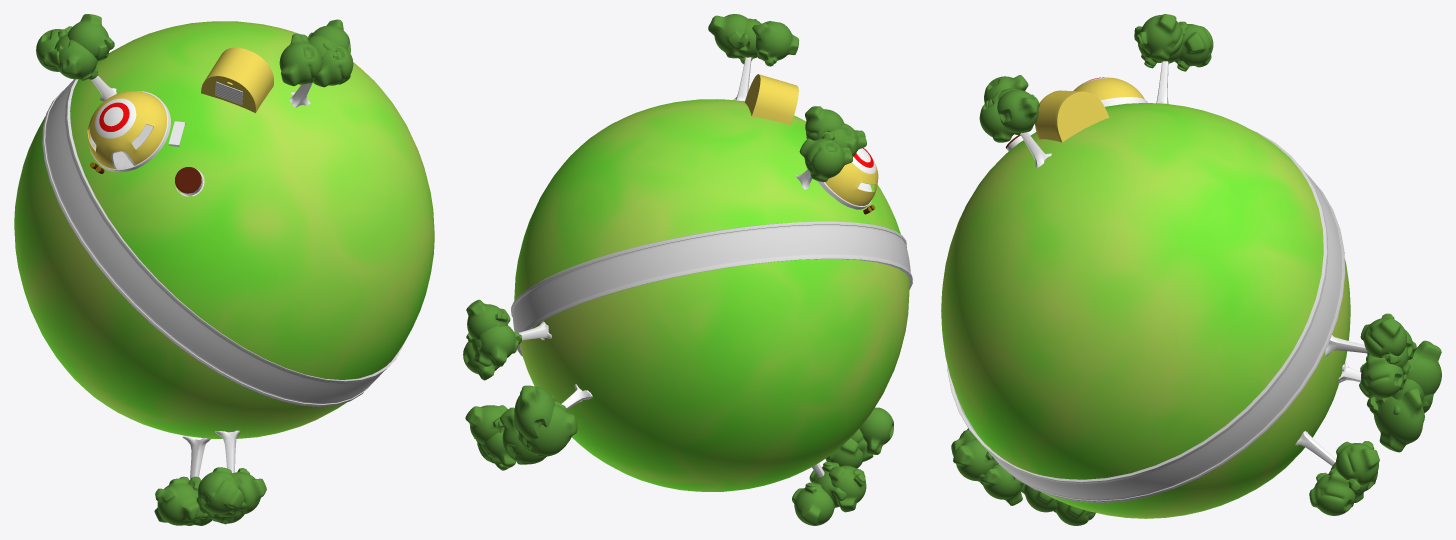
Rendered from kamisama_planet.glb.
3 renders of one model, left to right at view 1: azimuth 30°, elevation 25°; view 2: azimuth 150°, elevation 25°; view 3: azimuth 270°, elevation 25°, orthographic. The views are drawn at different scales.
Parts seen in each view (by area): view 1: Cube (13), CAMINO, casa, Cube (3), Sphere (7), Sphere (15), Sphere (12), Sphere (4), Sphere (2), Sphere (17), PISO CASA (2), Sphere (6) (+5 smaller); view 2: Cube (13), CAMINO, Cube (3), casa, Sphere (23), Sphere (5), Sphere (24), Sphere (15), Sphere (13), Sphere (16), Sphere (28), Sphere (12) (+8 smaller); view 3: Cube (13), CAMINO, Cube (3), Sphere (22), Sphere (4), Sphere (16), Sphere (29), Sphere (20), Sphere (18), Sphere (27), Sphere (23), Sphere (5) (+7 smaller).
Boxes of the visible parts, bbox=[...] form: Cube (13): bbox=[14, 21, 434, 438]; CAMINO: bbox=[42, 79, 402, 406]; casa: bbox=[87, 91, 166, 169]; Cube (3): bbox=[201, 47, 273, 113]; Sphere (7): bbox=[196, 467, 244, 514]; Sphere (15): bbox=[279, 33, 322, 86]; Sphere (12): bbox=[154, 478, 199, 525]; Sphere (4): bbox=[67, 14, 114, 61]; Sphere (2): bbox=[56, 40, 98, 80]; Sphere (17): bbox=[312, 45, 353, 87]; PISO CASA (2): bbox=[89, 91, 170, 172]; Sphere (6): bbox=[230, 468, 266, 514]; Cube (13): bbox=[514, 99, 909, 491]; CAMINO: bbox=[511, 221, 912, 356]; Cube (3): bbox=[744, 74, 798, 125]; casa: bbox=[825, 147, 878, 205]; Sphere (23): bbox=[514, 385, 555, 447]; Sphere (5): bbox=[799, 138, 852, 182]; Sphere (24): bbox=[518, 401, 577, 456]; Sphere (15): bbox=[752, 21, 799, 66]; Sphere (13): bbox=[792, 482, 834, 525]; Sphere (16): bbox=[708, 14, 757, 58]; Sphere (28): bbox=[477, 325, 521, 367]; Sphere (12): bbox=[828, 465, 866, 512]; Cube (13): bbox=[941, 103, 1350, 518]; CAMINO: bbox=[947, 131, 1345, 502]; Cube (3): bbox=[1035, 90, 1109, 142]; Sphere (22): bbox=[1367, 388, 1424, 452]; Sphere (4): bbox=[1136, 14, 1183, 61]; Sphere (16): bbox=[992, 89, 1039, 132]; Sphere (29): bbox=[1359, 354, 1406, 398]; Sphere (20): bbox=[1335, 441, 1379, 485]; Sphere (18): bbox=[1309, 469, 1355, 515]; Sphere (27): bbox=[1360, 313, 1406, 357]; Sphere (23): bbox=[1404, 340, 1441, 408]; Sphere (5): bbox=[1174, 24, 1213, 71].
Size of the model in its own units: 91.43 by 120 by 112.
Materials: 8 (1 with a texture image).
